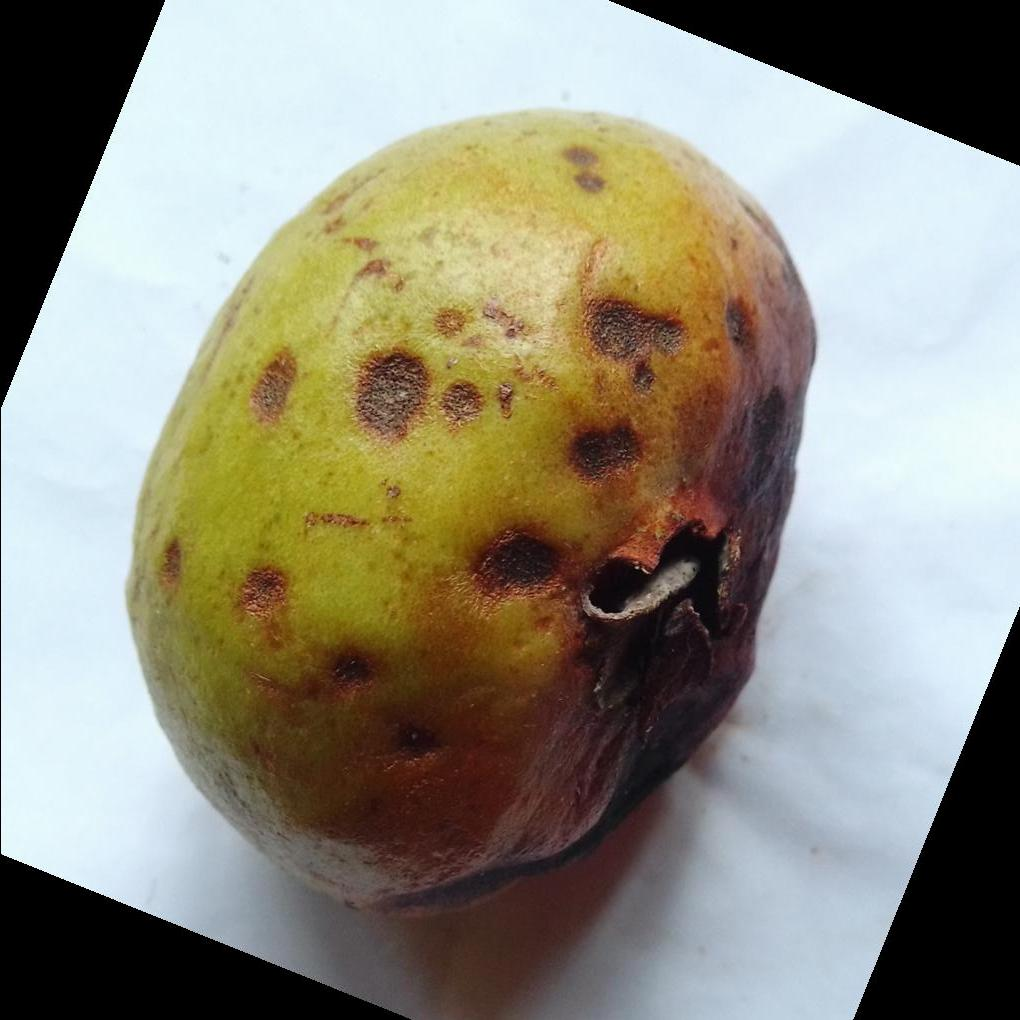FreshOrange: (119, 103, 817, 916)
